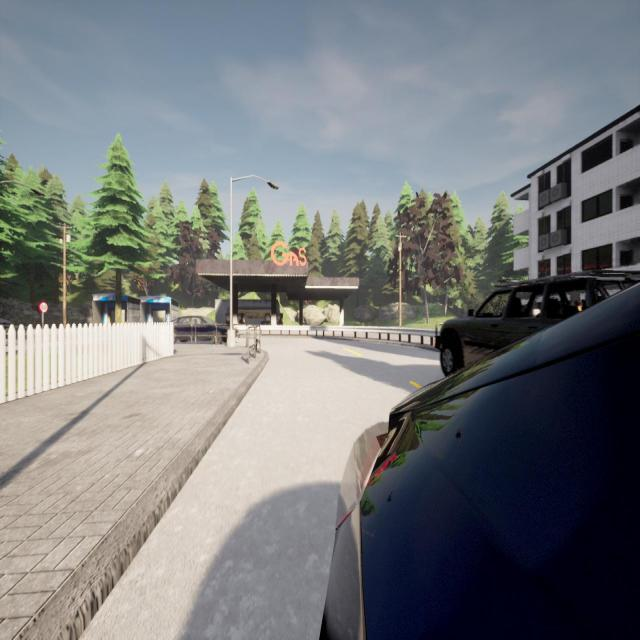Traffic_Signs: (37, 302, 48, 314)
Vehicle: (322, 283, 640, 638), (436, 273, 640, 378), (165, 315, 241, 344)
